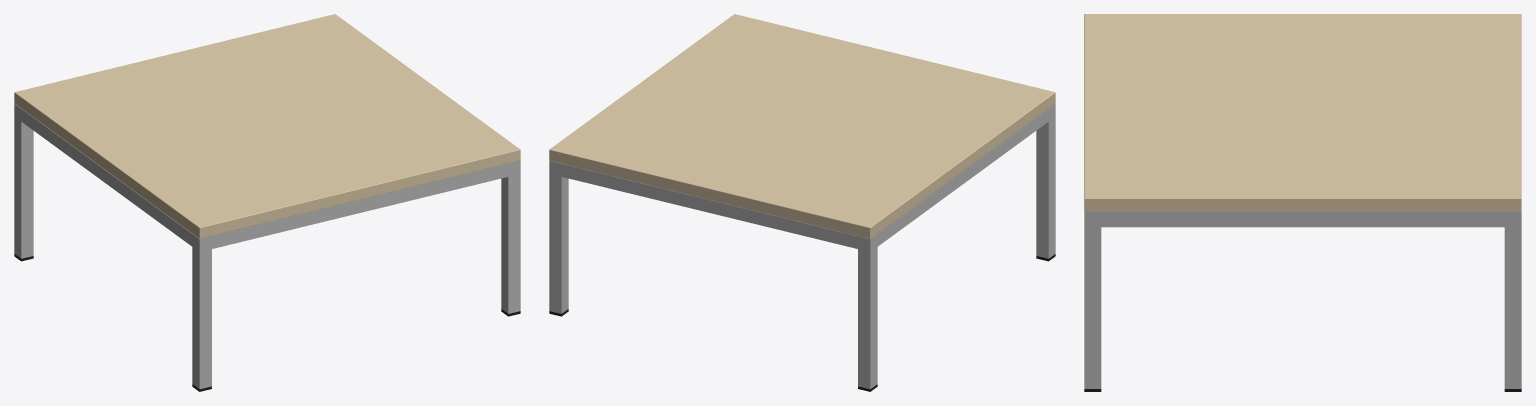
File: cube-poyta.fbx
3 views of the same model, side by side, from view 1: azimuth 30°, elevation 25°; view 2: azimuth 150°, elevation 25°; view 3: azimuth 270°, elevation 25° (orthographic). The views are drawn at different scales.
Parts seen in each view (by area): view 1: Group1, Group2; view 2: Group1, Group2; view 3: Group1, Group2.
Boxes of the visible parts, left/top/right/bottom form: Group1: left=14, top=14, right=520, bottom=238; Group2: left=14, top=103, right=520, bottom=389; Group1: left=549, top=14, right=1055, bottom=238; Group2: left=549, top=103, right=1055, bottom=389; Group1: left=1084, top=14, right=1521, bottom=211; Group2: left=1084, top=211, right=1521, bottom=388.
Size of the model in its own units: 649 by 317 by 649.
